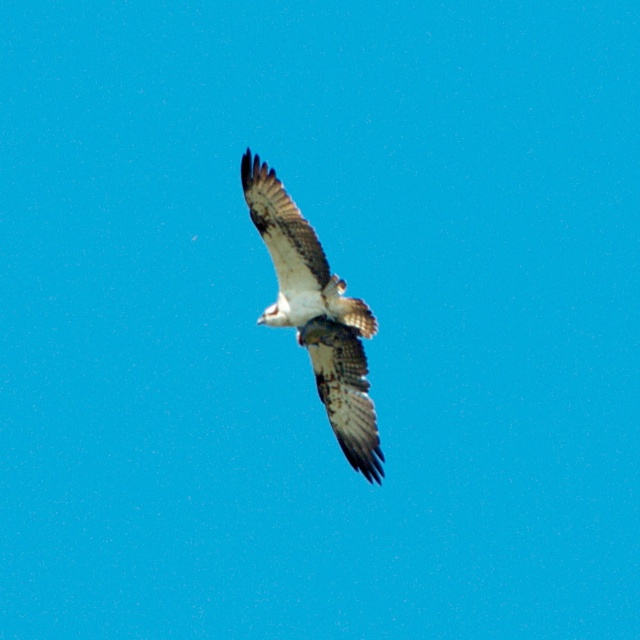Eagle: (238, 147, 390, 485)
